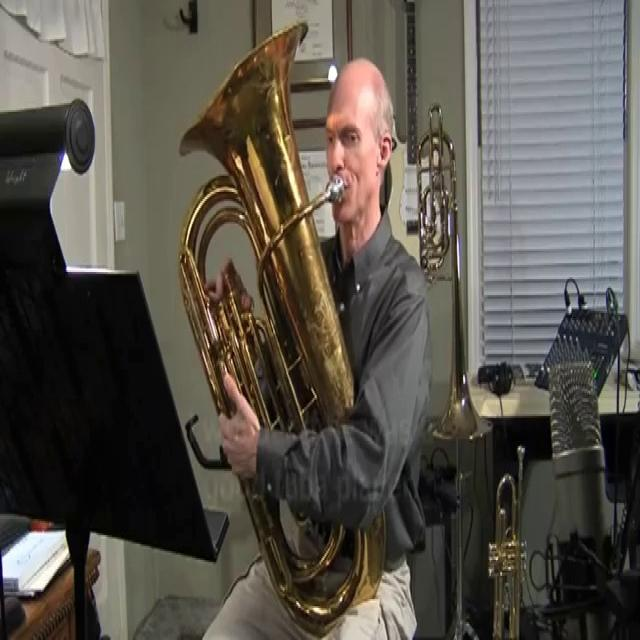Tuba: (139, 7, 407, 639)
